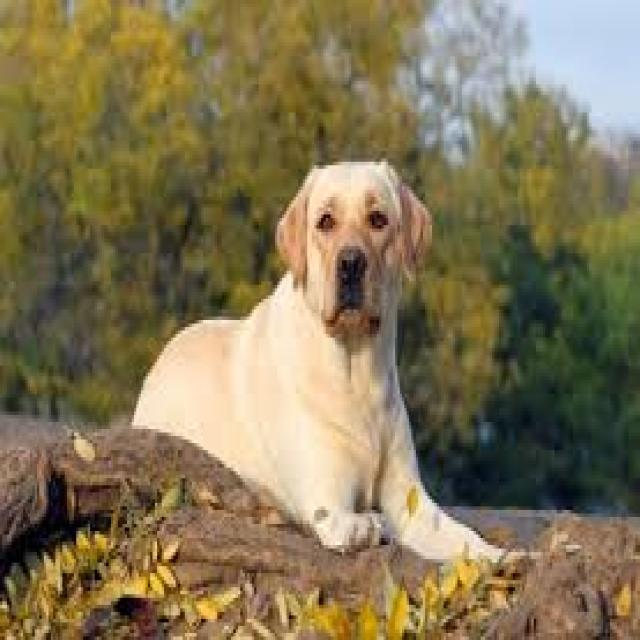Abrador: (133, 160, 523, 566)
